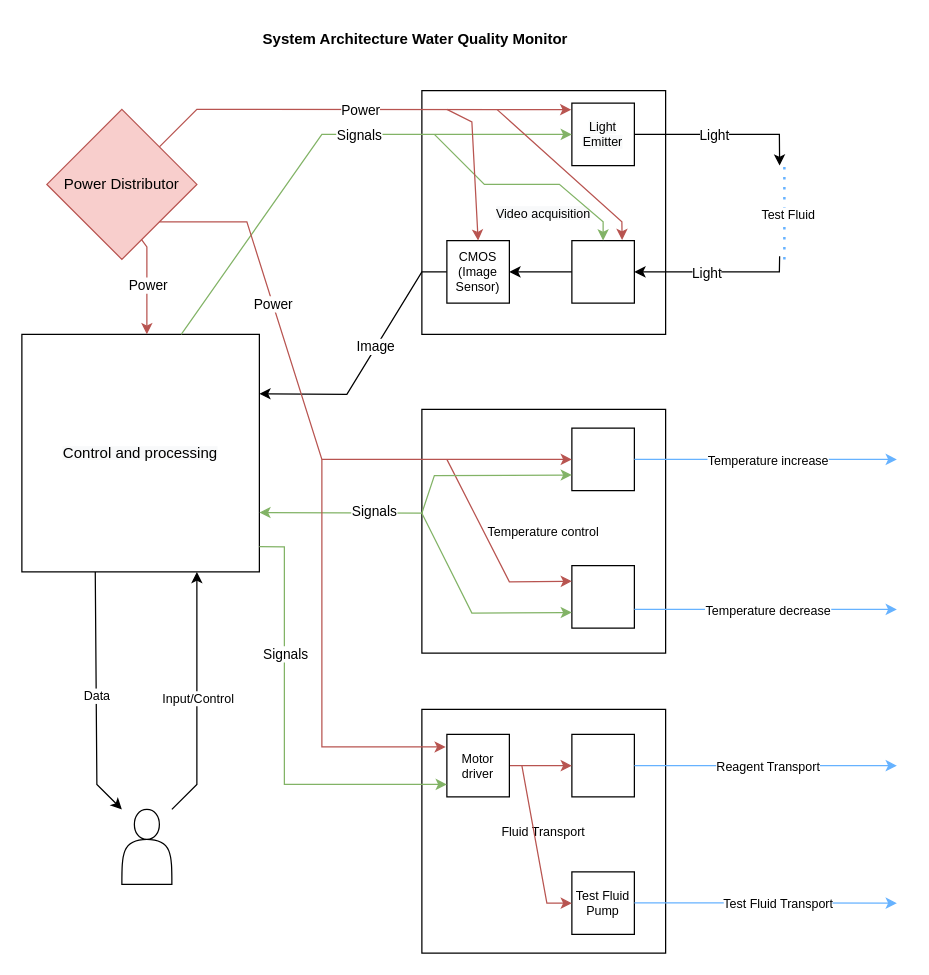
Some shapes in this 929 by 975 pixel diagram are drawn without their labels. The shapes that lost their labels are listed below. From the top down, each one's centre as x and y in pixels, then its label:
At (602,271): "Focussing device".
At (602,459): "Heating (Resistive)".
At (602,596): "Cooling (Heatpump)".
At (602,765): "Reagent Pump".
At (146,846): "User".
